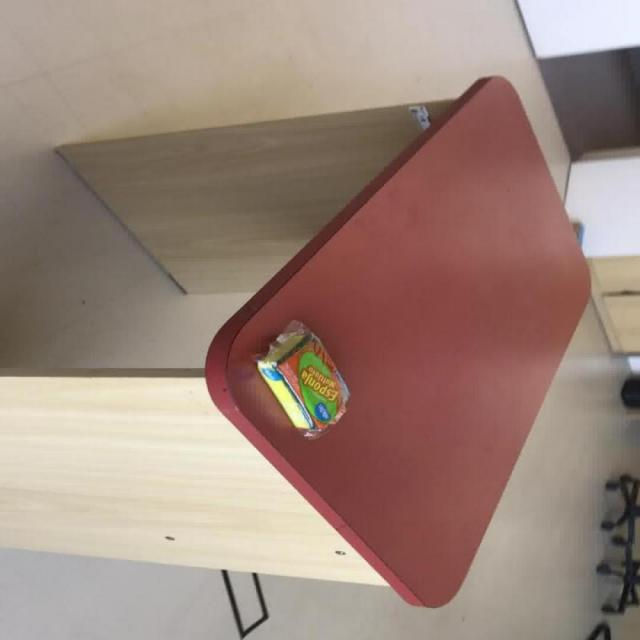Sponge: (252, 319, 350, 438)
